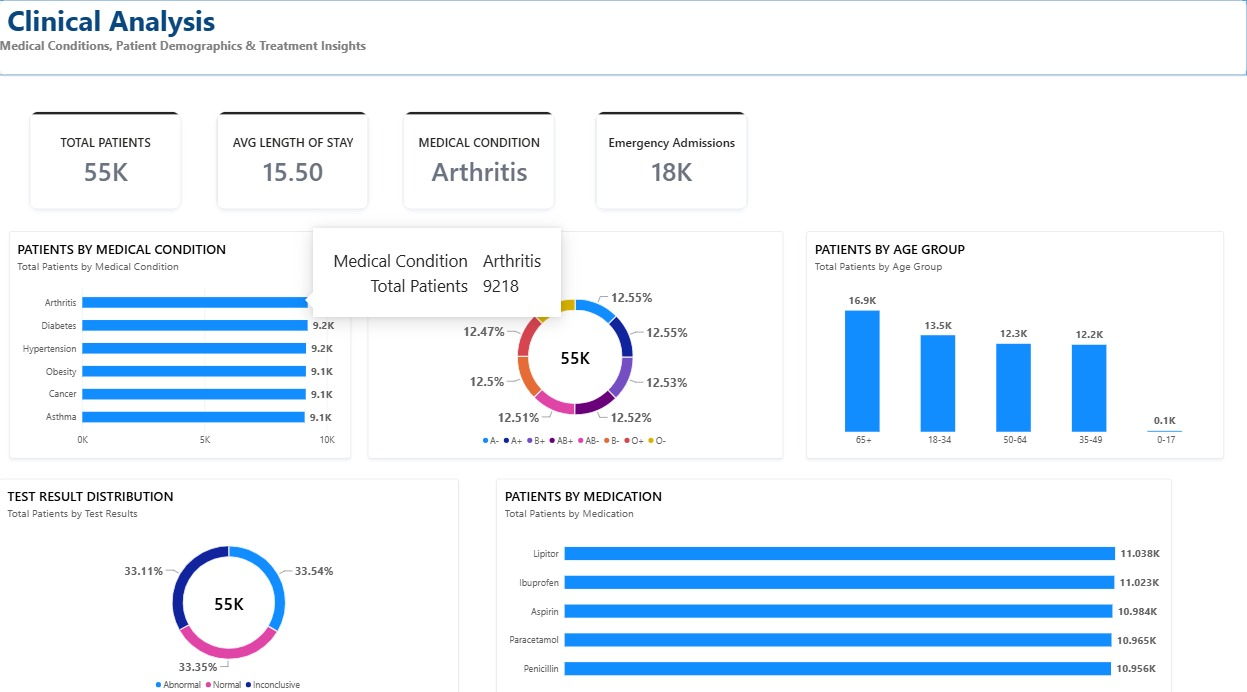

What the dashboard file says about the page in this screenshot:
{"tool":"powerbi","page":{"name":"Clinical","canvas":[1920,1080],"ordinal":1},"visuals":[{"type":"cardVisual","fields":{"Data":["Fact_Patients.Total Patients"]},"box":[45.2,171.9,234.2,151],"z":0},{"type":"shape","box":[0,0,1920.1,115.8],"z":1000},{"type":"textbox","box":[0,0,1920.1,115.8],"z":2000},{"type":"cardVisual","fields":{"Data":["Fact_Patients.Emergency Admissions"]},"box":[917.5,171.9,234.2,151],"z":3000},{"type":"cardVisual","fields":{"Data":["Min(Fact_Patients.Medical Condition)"]},"box":[620.7,171.9,234.2,151],"z":4000},{"type":"cardVisual","fields":{"Data":["Fact_Patients.Avg Length of Stay"]},"box":[334.8,171.9,234.2,151],"z":5000},{"type":"clusteredBarChart","title":"PATIENTS BY MEDICAL CONDITION","fields":{"Category":["Fact_Patients.Medical Condition"],"Y":["Fact_Patients.Total Patients"]},"box":[14.5,356.5,526.6,349.3],"z":6000},{"type":"clusteredColumnChart","title":"PATIENTS BY AGE GROUP","fields":{"Category":["Fact_Patients.Age Group"],"Y":["Fact_Patients.Total Patients"]},"box":[1243.2,356.5,642.4,349.3],"z":7000},{"type":"donutChart","title":"BLOOD TYPE DISTRIBUTION","fields":{"Category":["Fact_Patients.Blood Type"],"Y":["Fact_Patients.Total Patients"]},"box":[568.2,356.5,638.8,349.3],"z":8000},{"type":"donutChart","title":"TEST RESULT DISTRIBUTION","fields":{"Category":["Fact_Patients.Test Results"],"Y":["Fact_Patients.Total Patients"]},"box":[0,736.5,707.6,343.8],"z":9000},{"type":"clusteredBarChart","title":"PATIENTS BY MEDICATION","fields":{"Category":["Fact_Patients.Medication"],"Y":["Fact_Patients.Total Patients"]},"box":[765.5,736.5,1038.7,334.8],"z":10000}]}

Visuals, with their boxes in screenshot pixels (x1, y1, x2, y2), scaled from the page's 1920x1080 canvas onto the 1247x692 screenshot:
cardVisual - Fact_Patients.Total Patients: 29,110,181,207
shape: 0,0,1246,74
textbox: 0,0,1246,74
cardVisual - Fact_Patients.Emergency Admissions: 596,110,748,207
cardVisual - Min(Fact_Patients.Medical Condition): 403,110,555,207
cardVisual - Fact_Patients.Avg Length of Stay: 217,110,370,207
"PATIENTS BY MEDICAL CONDITION" clusteredBarChart: 9,228,351,452
"PATIENTS BY AGE GROUP" clusteredColumnChart: 807,228,1225,452
"BLOOD TYPE DISTRIBUTION" donutChart: 369,228,784,452
"TEST RESULT DISTRIBUTION" donutChart: 0,472,460,691
"PATIENTS BY MEDICATION" clusteredBarChart: 497,472,1172,686
